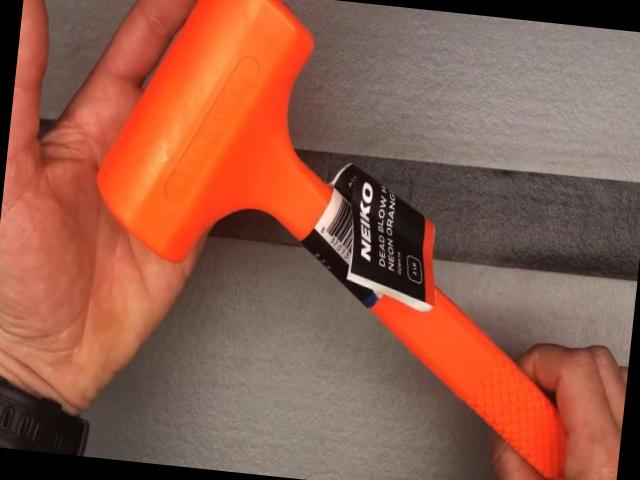hammer: (66, 0, 640, 480)
